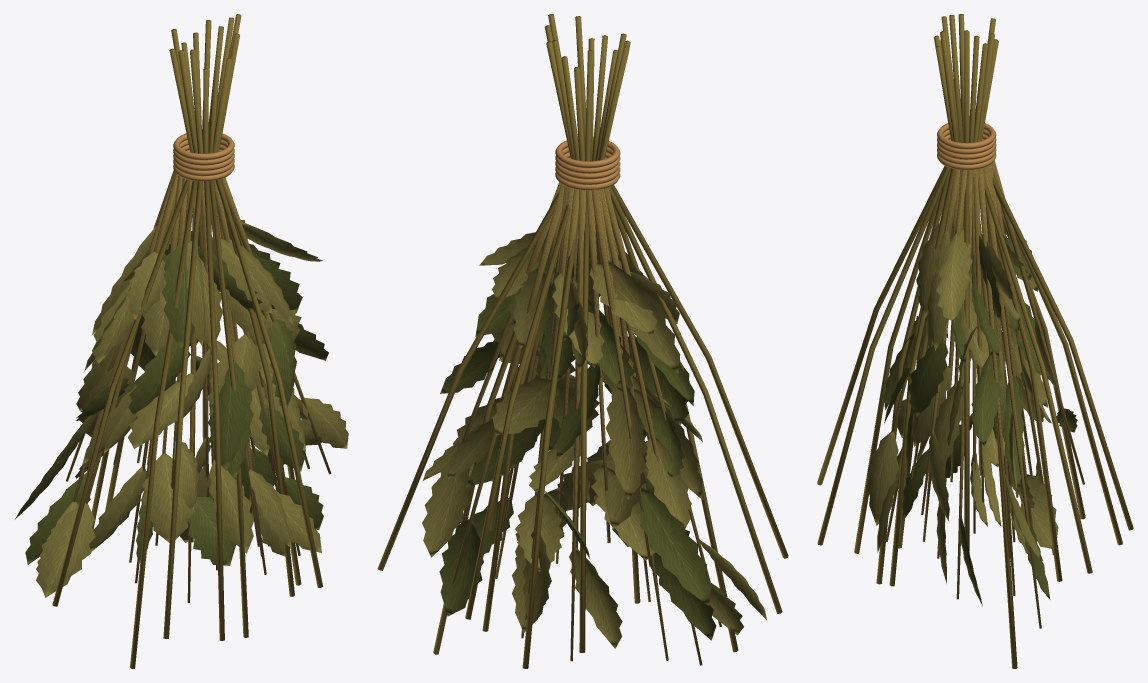
The model's file is herb-green.glb.
The picture shows the model from 3 angles, left to right: view 1: azimuth 30°, elevation 25°; view 2: azimuth 150°, elevation 25°; view 3: azimuth 270°, elevation 25°; orthographic projection. The views are drawn at different scales.
Parts seen in each view (by area): view 1: herb-green-mesh; view 2: herb-green-mesh; view 3: herb-green-mesh.
Part boxes in pixels (x1,y1,x2,y2): herb-green-mesh: (14,14,348,668); herb-green-mesh: (377,14,788,668); herb-green-mesh: (817,14,1133,668).
Size of the model in its own units: 0.2901 by 0.5508 by 0.2647.
Materials: 5 (5 with a texture image).
